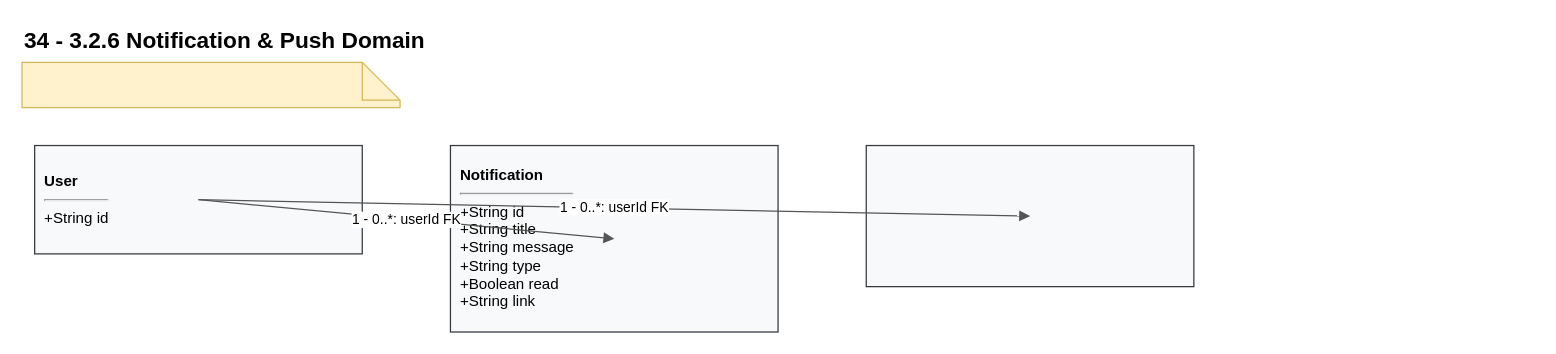
The diagram is 1556 pixels wide and 354 high, and some of its shapes have lost their labels. The shapes that lost their labels are listed below. From the top down, each one's box as (x1, y1, x2, y2) in pixels, then its label:
(21, 61, 400, 108): Mermaid classDiagram source: PHAN_TICH_THIET_KE_HE_THONG.md:2058
(865, 144, 1194, 287): PushSubscription +String id +String endpoint UK +String p256dh +String auth
